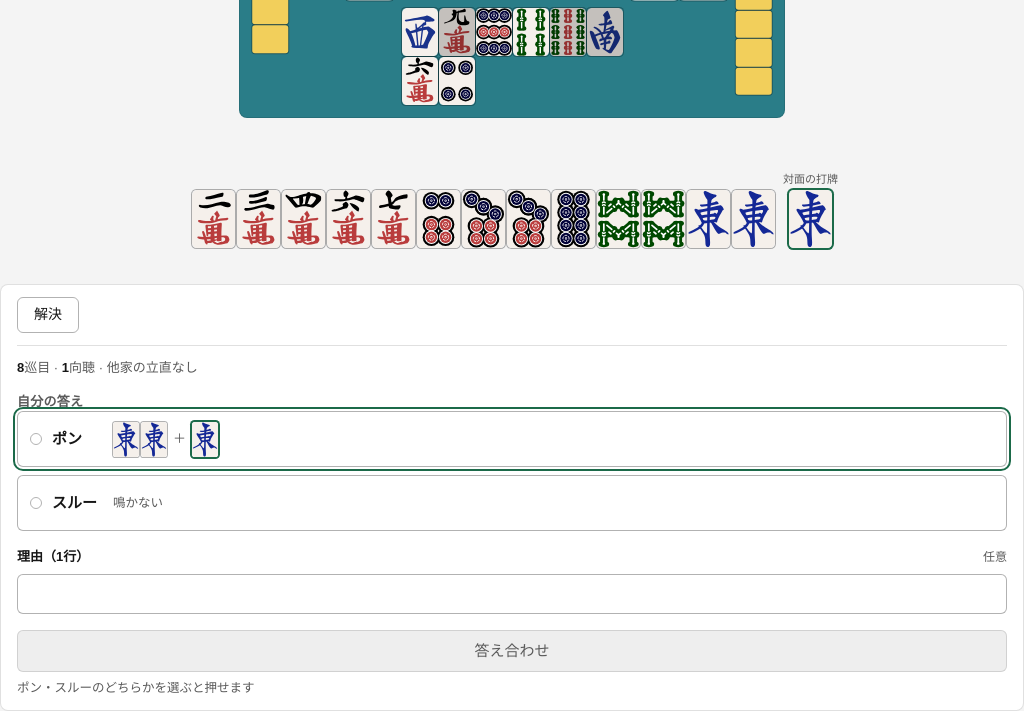
U-40 欄「役」の開閉と要約 › 既定は閉じ、見出しのボタンと自分の確定役の要約だけを出す。押すと開く
The image size is (1024, 711).
(page scrolled)
Click the radio button labelled "ポン ＋" at (512, 440), box [17,412,1007,468]
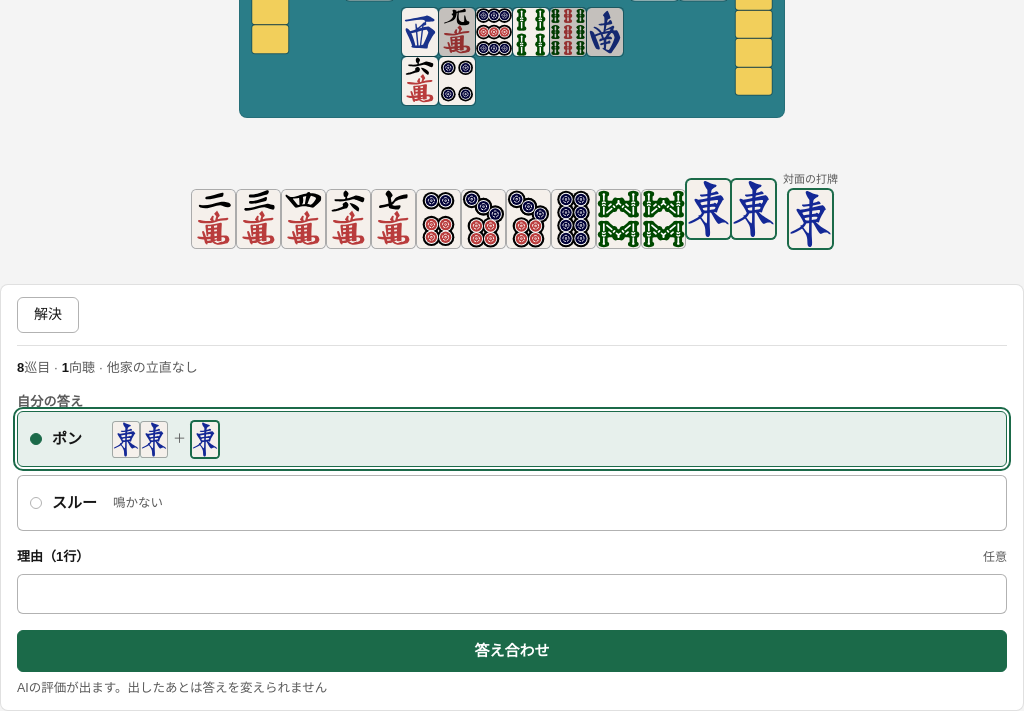
Type "役を見て選んだ" into the field labelled "理由（1行）" at (512, 594), box [17,574,1007,614]
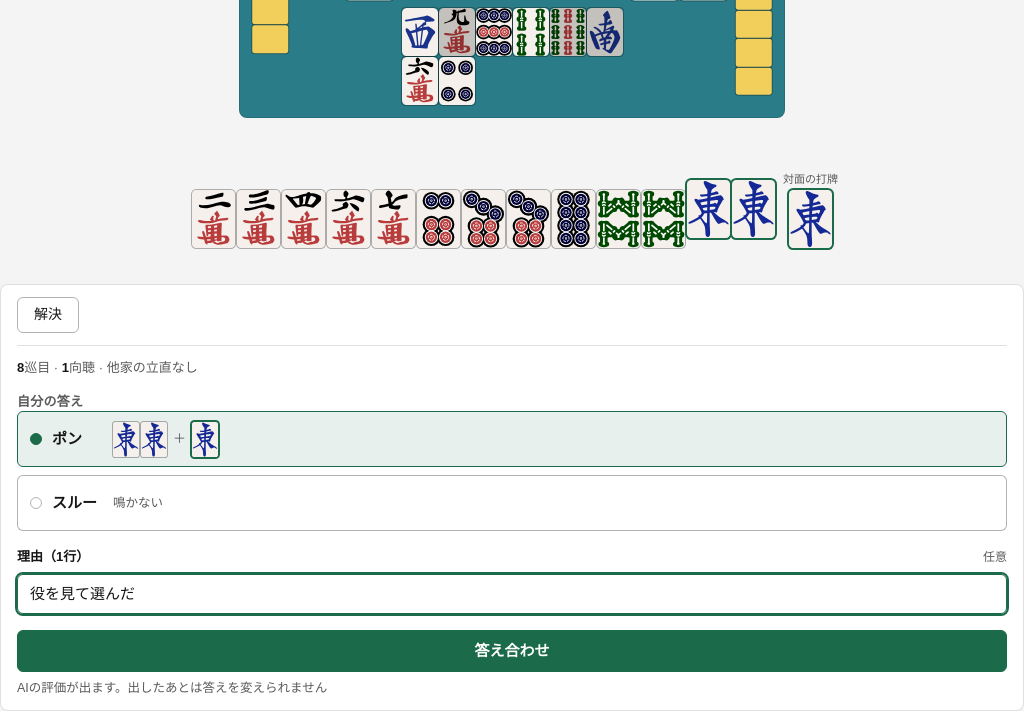
Click the button "答え合わせ" at (512, 651), box [17,630,1007,672]
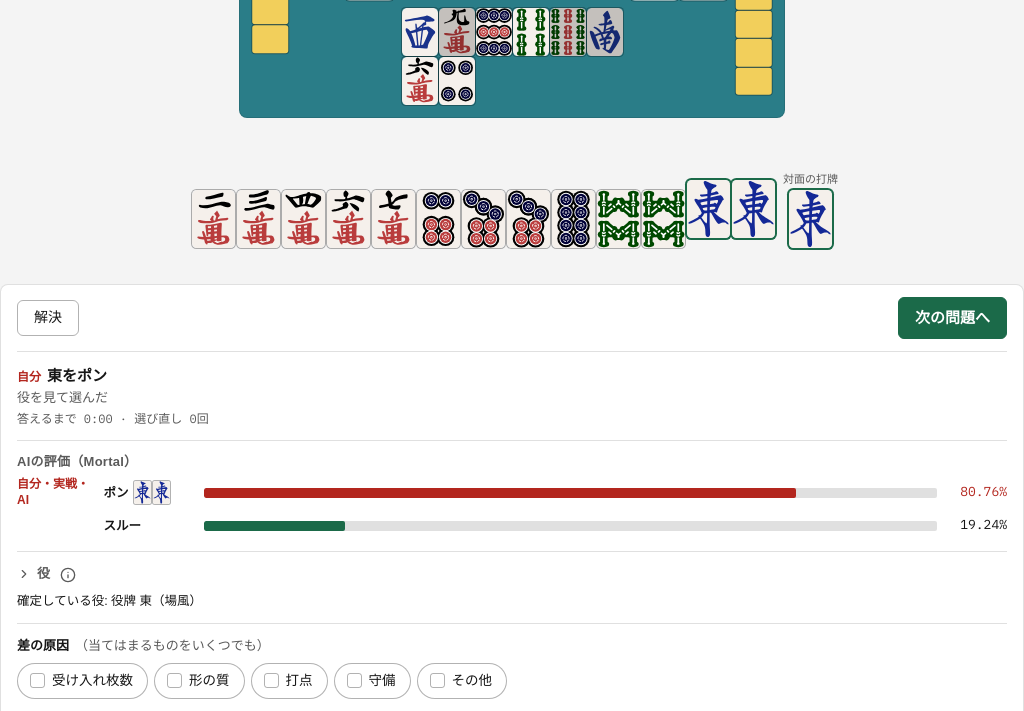
expect the text "確定している役: 役牌 東（場風）" is shown: met, box [17,594,202,608]
Click the button "役" at (34, 574), box [17,560,50,588]
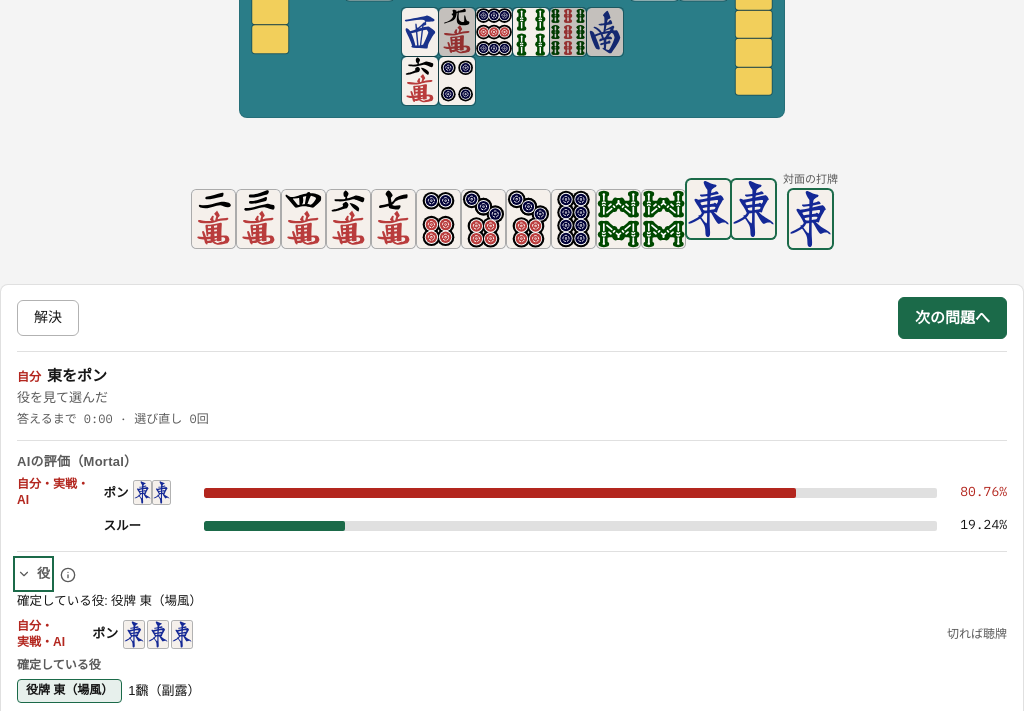
expect the button "役" is expanded: met, box [17,560,50,588]
